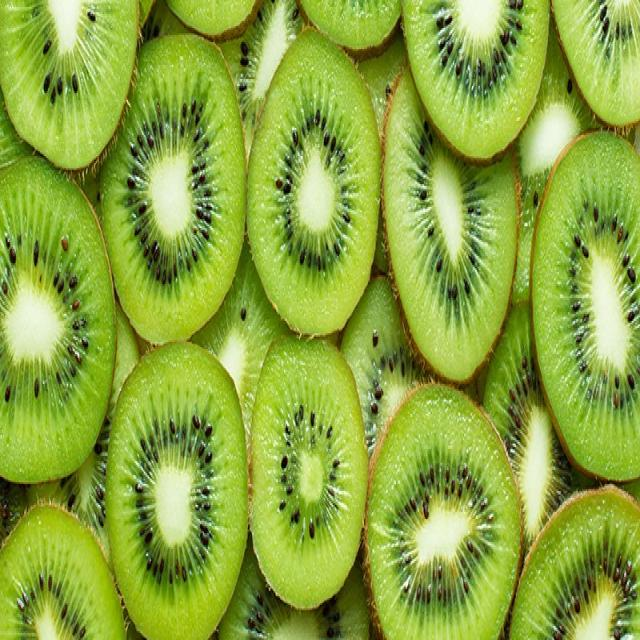Chilli Pepper: (377, 51, 518, 389), (99, 39, 242, 340), (364, 386, 526, 640), (107, 347, 249, 635), (246, 38, 378, 346), (529, 130, 640, 482), (0, 156, 114, 485), (249, 342, 366, 607), (2, 0, 137, 175), (2, 508, 132, 640)
